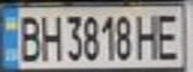1: (100, 11, 118, 61)
3: (63, 11, 84, 61)
8: (115, 11, 136, 61), (81, 11, 100, 62)
B: (12, 11, 45, 63)
E: (154, 9, 184, 61)
H: (133, 10, 163, 61), (36, 10, 63, 62)
